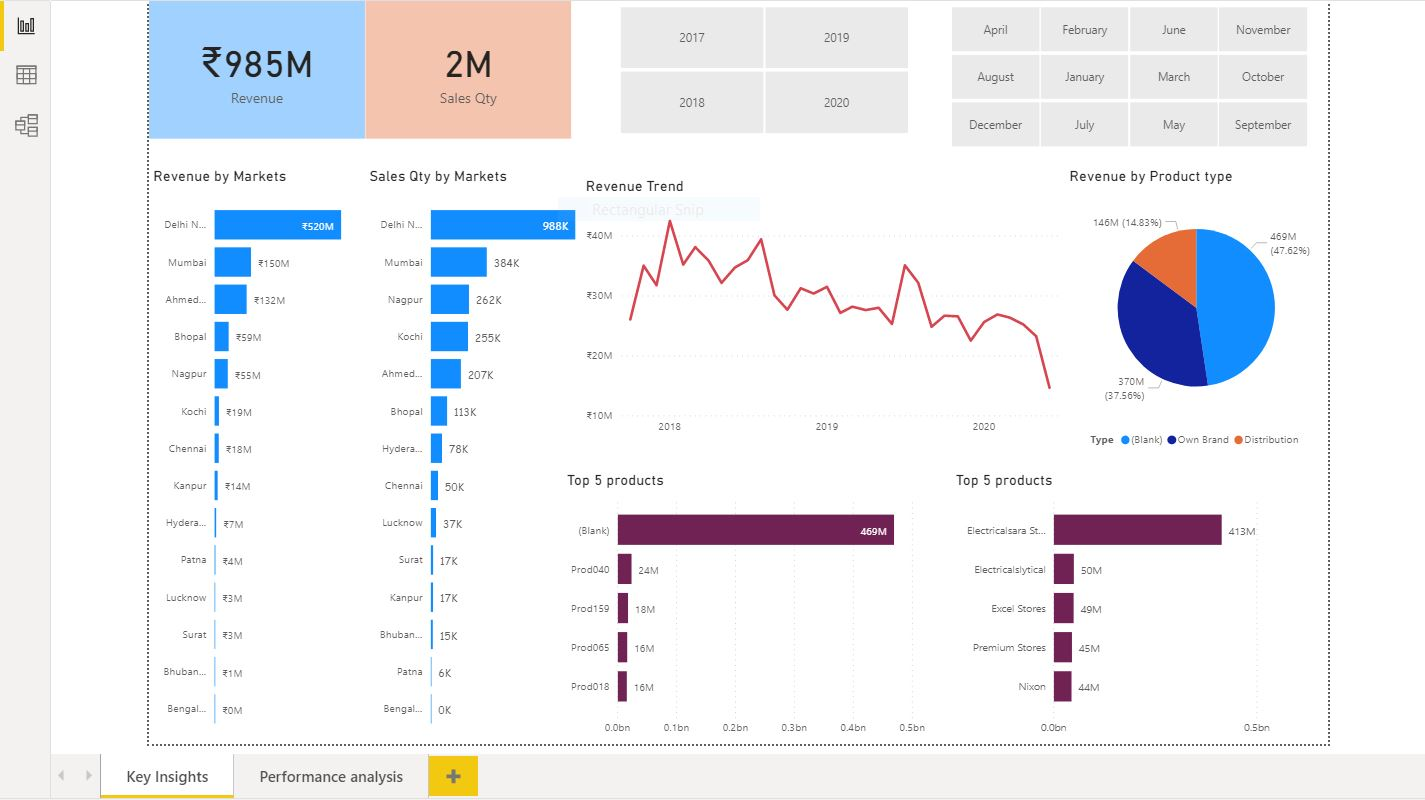

The dashboard page shown, as its layout file describes it:
{"tool":"powerbi","page":{"name":"Key Insights","canvas":[1350,850],"ordinal":0},"visuals":[{"type":"card","fields":{"Values":["BaseMeasures (2).Revenue"]},"box":[0,0,247.6,157.4],"z":0},{"type":"card","fields":{"Values":["BaseMeasures (2).Sales Qty"]},"box":[247.6,0,236.1,157.4],"z":1000},{"type":"barChart","title":"Revenue by Markets","fields":{"Y":["BaseMeasures (2).Revenue"],"Category":["sales markets.markets_name"]},"box":[0,190.3,247.6,659.7],"z":2000},{"type":"barChart","title":"Sales Qty by Markets","fields":{"Y":["BaseMeasures (2).Sales Qty"],"Category":["sales markets.markets_name"]},"box":[247.6,190.3,247.6,659.7],"z":3000},{"type":"slicer","fields":{"Values":["sales date.year"]},"box":[513.9,0,379.2,158.1],"z":4000},{"type":"slicer","fields":{"Values":["sales date.month_name"]},"box":[892.9,0,456.5,173.1],"z":5000},{"type":"lineChart","title":"Revenue Trend","fields":{"Y":["BaseMeasures (2).Revenue"],"Category":["sales date.cy_date"]},"box":[494.9,202.1,553.5,304.6],"z":6000},{"type":"pieChart","title":"Revenue by Product type","fields":{"Category":["sales products.product_type"],"Y":["Sum(Sales transactions.norm_sales_amount)"]},"box":[1048.9,190.3,300.5,330.6],"z":7000},{"type":"barChart","title":"Top 5 products","fields":{"Category":["sales products.product_code"],"Y":["Sum(Sales transactions.norm_sales_amount)"]},"box":[472.9,537.4,420.2,313.3],"z":8000},{"type":"barChart","title":"Top 5 products","fields":{"Category":["sales customers.custmer_name"],"Y":["Sum(Sales transactions.norm_sales_amount)"]},"box":[918.1,537.4,415.8,313.3],"z":9000}]}

Visuals, with their boxes on the page's 1350x850 design canvas (x1, y1, x2, y2). These are canvas units, not pixel positions in the 1425x800 screenshot, which may show the page scaled, cropped or inside an application window:
card - BaseMeasures (2).Revenue: (x1=0, y1=0, x2=248, y2=157)
card - BaseMeasures (2).Sales Qty: (x1=248, y1=0, x2=484, y2=157)
"Revenue by Markets" barChart: (x1=0, y1=190, x2=248, y2=850)
"Sales Qty by Markets" barChart: (x1=248, y1=190, x2=495, y2=850)
slicer - sales date.year: (x1=514, y1=0, x2=893, y2=158)
slicer - sales date.month_name: (x1=893, y1=0, x2=1349, y2=173)
"Revenue Trend" lineChart: (x1=495, y1=202, x2=1048, y2=507)
"Revenue by Product type" pieChart: (x1=1049, y1=190, x2=1349, y2=521)
"Top 5 products" barChart: (x1=473, y1=537, x2=893, y2=851)
"Top 5 products" barChart: (x1=918, y1=537, x2=1334, y2=851)
